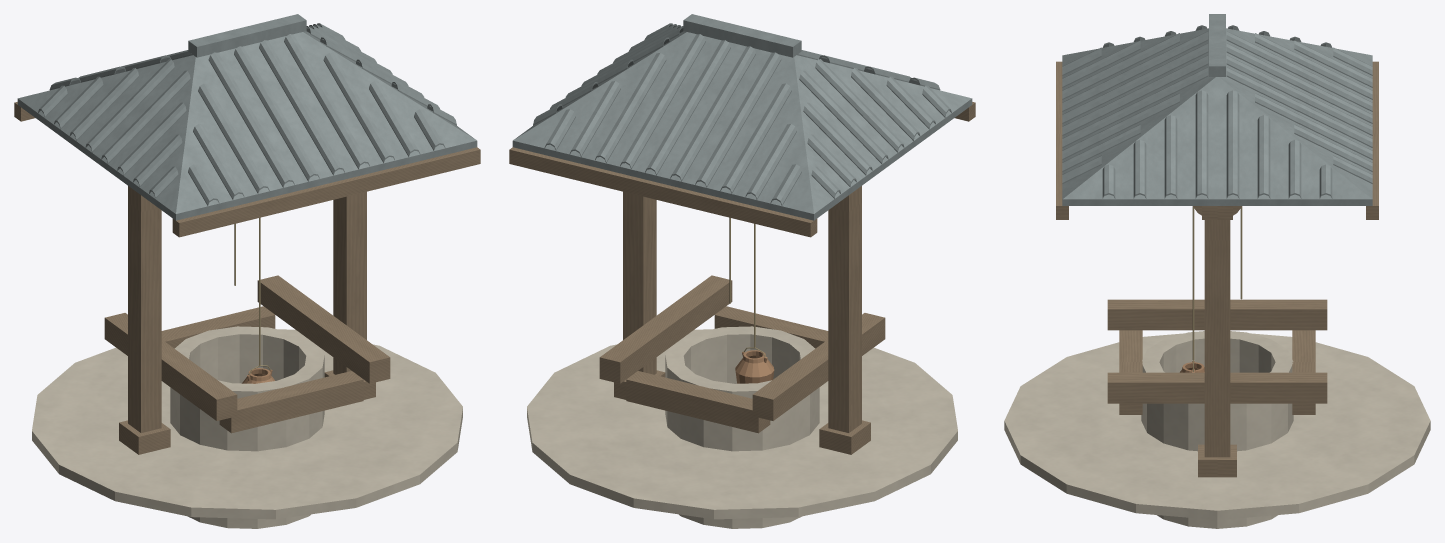
File: well-A-LOD1-batched-128.glb
3 renders of one model, left to right at view 1: azimuth 30°, elevation 25°; view 2: azimuth 150°, elevation 25°; view 3: azimuth 270°, elevation 25°, orthographic. The views are drawn at different scales.
Visible parts, largest first — view 1: static_batch_2, static_batch_0, static_batch_1; view 2: static_batch_2, static_batch_0, static_batch_1, static_batch_4; view 3: static_batch_2, static_batch_0, static_batch_1, static_batch_3.
Part boxes in pixels (<box>): static_batch_2: <box>17,14,477,220</box>; static_batch_0: <box>32,326,462,528</box>; static_batch_1: <box>14,102,480,454</box>; static_batch_2: <box>512,14,972,220</box>; static_batch_0: <box>527,326,957,528</box>; static_batch_1: <box>509,102,975,454</box>; static_batch_4: <box>735,350,774,383</box>; static_batch_2: <box>1062,14,1372,205</box>; static_batch_0: <box>1004,331,1430,528</box>; static_batch_1: <box>1056,61,1378,477</box>; static_batch_3: <box>1192,206,1242,371</box>.
Size of the model in its own units: 3.3 by 3.9 by 3.3.
Materials: 5 (3 with a texture image).
